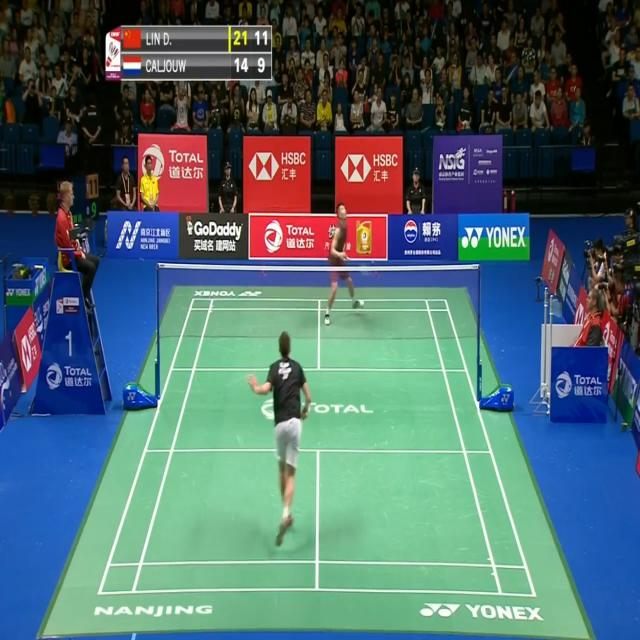Player1: (242, 328, 314, 552)
Player2: (318, 201, 368, 331)
